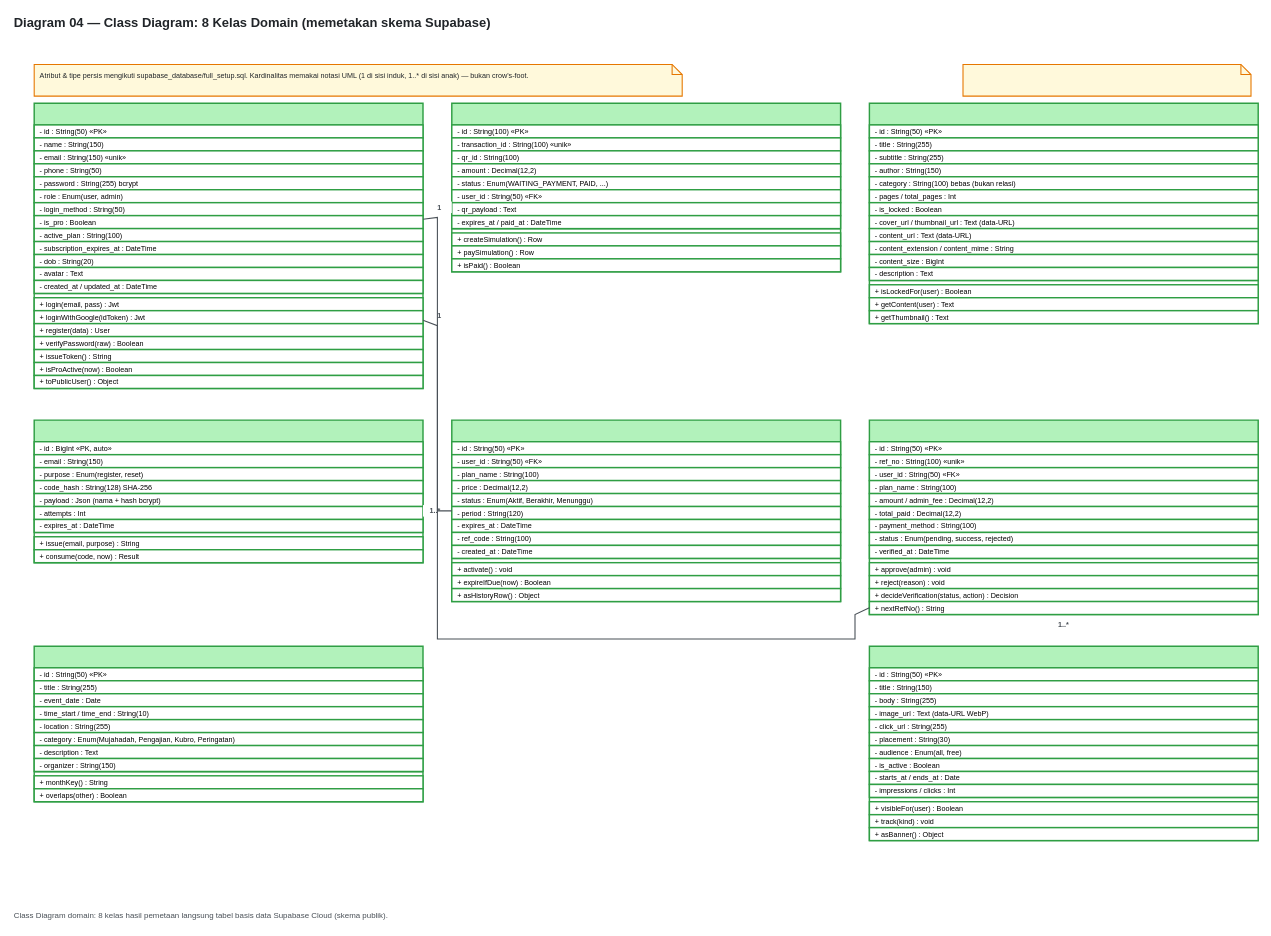
Some shapes in this 1271 by 936 pixel diagram are drawn without their labels. The box of each missing label's shape, as (x1, y1, x2, y2) in pixels:
<<table: ads>> Ad: (868, 645, 1259, 841)
<<table: books>> Book: (868, 102, 1259, 324)
<<table: email_verifications>> EmailVerification: (33, 419, 423, 563)
<<table: events>> Event: (33, 645, 423, 802)
<<table: qris_transactions>> QrisTransaction: (451, 102, 841, 272)
<<table: subscriptions>> Subscription: (451, 419, 841, 602)
<<table: transactions>> Transaction: (868, 419, 1259, 615)
<<table: users>> User: (33, 102, 423, 389)
Ad & Event tidak punya FK: keduanya berdiri sendiri (dependensi runtime).: (962, 64, 1251, 96)
